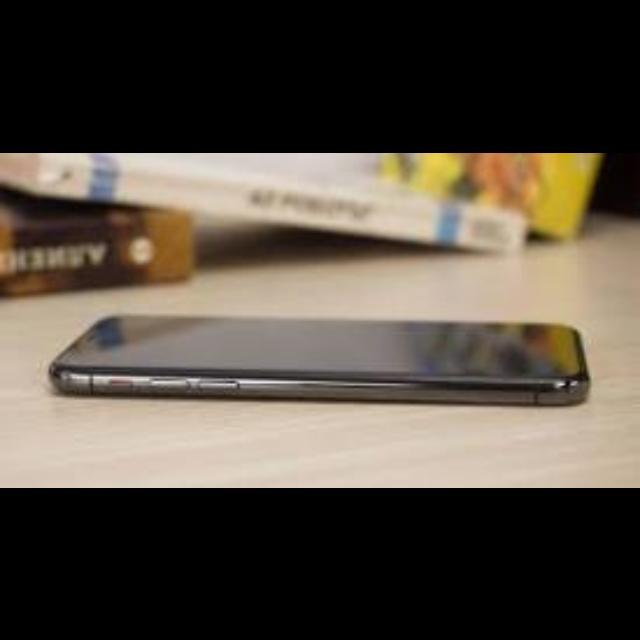Phone: (52, 312, 590, 406)
